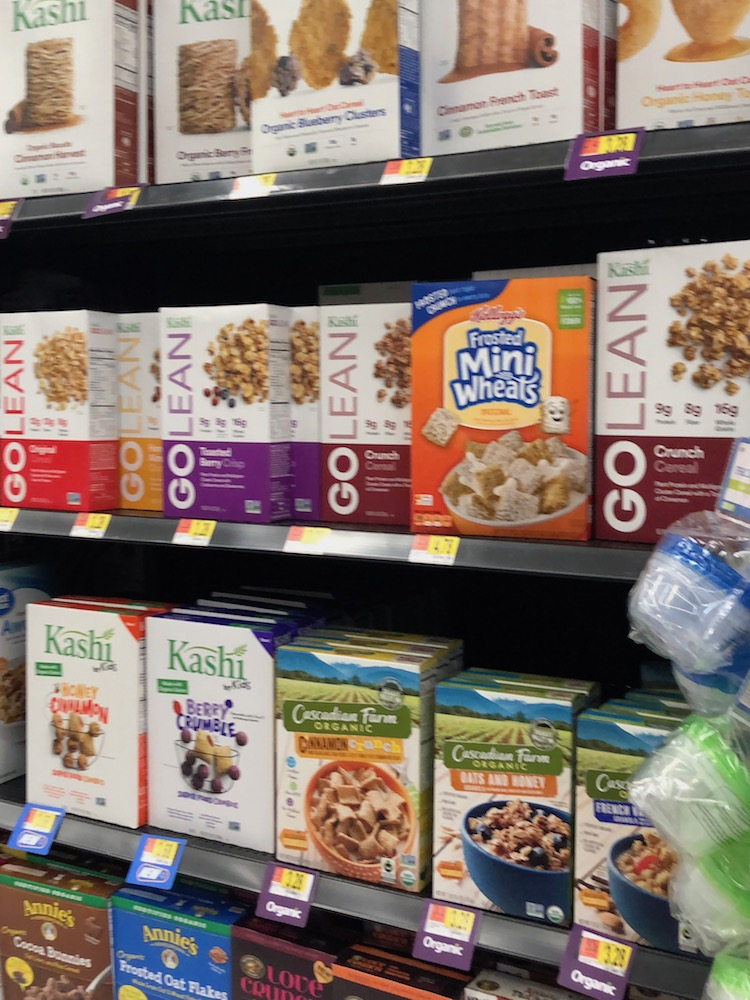Frosted Mini Original -9295869: (413, 286, 595, 541)
